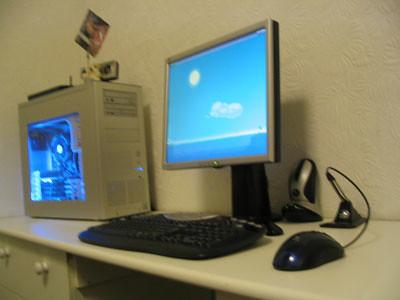computer: (159, 13, 293, 234), (18, 80, 153, 221)
